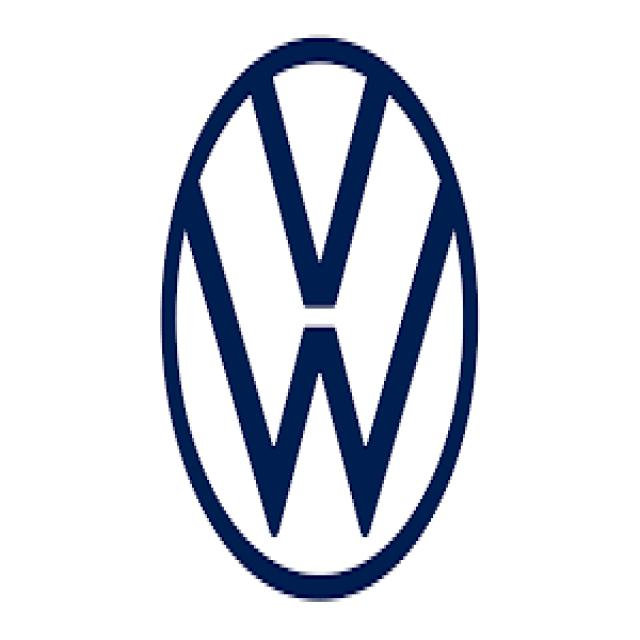wolksvogen: (144, 27, 498, 618)
